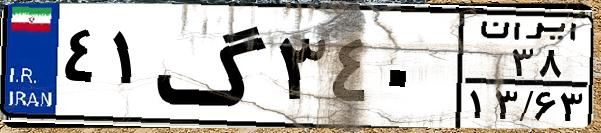0: (385, 28, 445, 110)
1: (110, 28, 156, 98), (470, 70, 495, 125)
3: (270, 28, 330, 110), (560, 70, 590, 125), (508, 27, 537, 80), (495, 70, 520, 125)
4: (330, 28, 385, 110), (57, 26, 110, 100)
6: (535, 70, 560, 125)
8: (537, 27, 568, 80)
گ: (156, 12, 270, 120)
